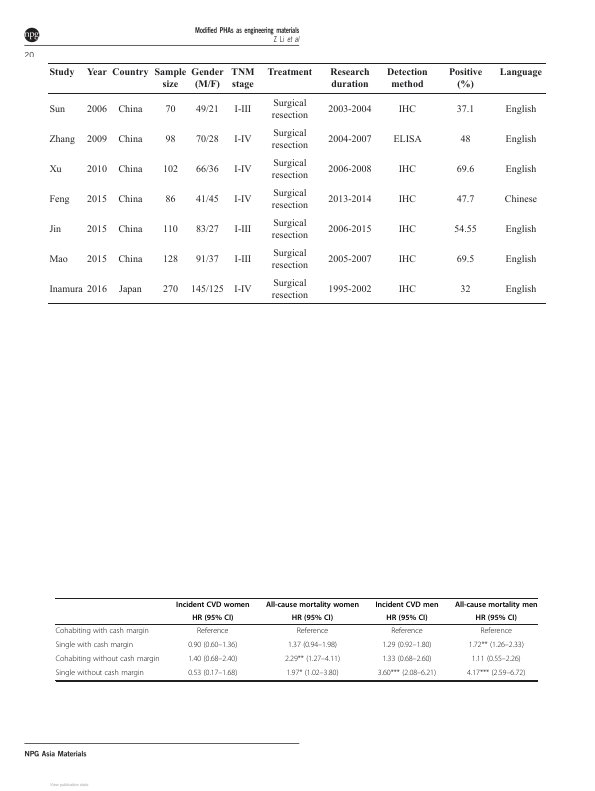borderless: (47, 62, 546, 303), (54, 596, 537, 680)
cell: (54, 654, 160, 664), (386, 68, 428, 91), (54, 626, 150, 636), (329, 68, 370, 91), (270, 128, 309, 152), (55, 668, 145, 678), (270, 99, 309, 122), (270, 158, 309, 181), (270, 188, 309, 211), (270, 218, 309, 241), (270, 248, 309, 271), (270, 278, 309, 301), (265, 600, 360, 609), (448, 68, 483, 91), (54, 640, 134, 650), (153, 68, 187, 91), (190, 68, 224, 91), (454, 600, 538, 609), (175, 600, 250, 609), (377, 668, 437, 678), (466, 668, 526, 678), (374, 600, 439, 609), (230, 68, 255, 91), (468, 640, 525, 650), (284, 654, 341, 664), (327, 134, 372, 146), (285, 668, 339, 678), (266, 68, 313, 79), (187, 640, 238, 650), (287, 640, 338, 650), (381, 640, 432, 650), (187, 654, 238, 664), (381, 654, 432, 664), (471, 654, 522, 664), (187, 668, 238, 678), (498, 68, 543, 79), (327, 105, 372, 116), (327, 164, 372, 175), (327, 194, 372, 205), (327, 224, 372, 235), (327, 254, 372, 265), (327, 284, 372, 295), (191, 613, 234, 623), (291, 613, 334, 623), (385, 613, 428, 623), (475, 613, 518, 623), (111, 68, 149, 79), (504, 134, 537, 146), (503, 194, 538, 205), (48, 284, 83, 295), (190, 284, 224, 295), (504, 105, 537, 116), (504, 164, 537, 175), (504, 224, 537, 235), (504, 254, 537, 265), (504, 284, 537, 295), (392, 134, 422, 146), (390, 626, 424, 636), (479, 626, 513, 636), (48, 134, 76, 146), (196, 626, 229, 636), (296, 626, 329, 636), (117, 134, 143, 146), (48, 68, 75, 79), (195, 134, 219, 146), (117, 105, 143, 116), (117, 164, 143, 175), (117, 194, 143, 205), (117, 224, 143, 235), (117, 254, 143, 265), (195, 105, 219, 116), (86, 134, 108, 146), (195, 164, 219, 175), (195, 194, 219, 205), (195, 224, 219, 235), (453, 224, 477, 235), (195, 254, 219, 265), (118, 284, 142, 295), (86, 68, 108, 79), (85, 105, 107, 116), (85, 164, 107, 175), (48, 194, 70, 205), (86, 194, 108, 205), (86, 224, 108, 235), (86, 254, 108, 265), (86, 284, 108, 295), (233, 134, 252, 146), (397, 105, 417, 116), (455, 105, 475, 116), (397, 164, 417, 175), (455, 164, 475, 175), (397, 194, 417, 205), (455, 194, 475, 205), (397, 224, 417, 235), (48, 254, 68, 265), (397, 254, 417, 265), (455, 254, 475, 265), (397, 284, 417, 295), (233, 105, 252, 116), (233, 164, 252, 175), (233, 194, 252, 205), (233, 224, 252, 235), (233, 254, 252, 265), (233, 284, 252, 295), (48, 105, 66, 116), (162, 164, 179, 175), (162, 254, 179, 265), (162, 284, 179, 295), (162, 224, 178, 235), (48, 164, 62, 175), (48, 224, 62, 235), (164, 134, 176, 146), (459, 134, 471, 146), (164, 105, 176, 116), (164, 194, 176, 205), (459, 284, 471, 295)
